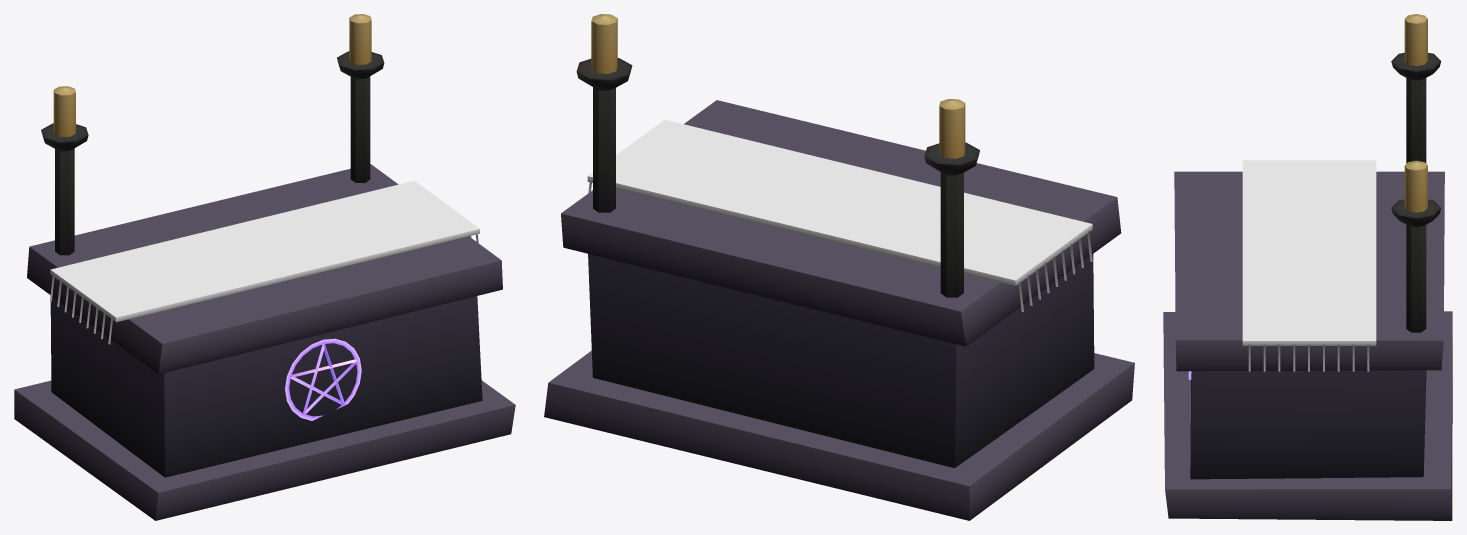
Rendered from stone_altar.glb.
The picture shows the model from 3 angles, left to right: view 1: azimuth 30°, elevation 25°; view 2: azimuth 150°, elevation 25°; view 3: azimuth 270°, elevation 25°; orthographic projection. The views are drawn at different scales.
Visible parts, largest first — view 1: stone_altar_trim, stone_altar, stone_altar_glow; view 2: stone_altar_trim, stone_altar; view 3: stone_altar_trim, stone_altar.
Boxes of the visible parts, bbox=[...] form: stone_altar_trim: bbox=[14, 14, 515, 520]; stone_altar: bbox=[50, 180, 479, 344]; stone_altar_glow: bbox=[285, 338, 361, 420]; stone_altar_trim: bbox=[544, 14, 1134, 520]; stone_altar: bbox=[587, 119, 1092, 312]; stone_altar_trim: bbox=[1163, 14, 1452, 520]; stone_altar: bbox=[1242, 160, 1376, 371].
Bounding box in the file's own units: 1.31 × 1.13 × 0.8673.
